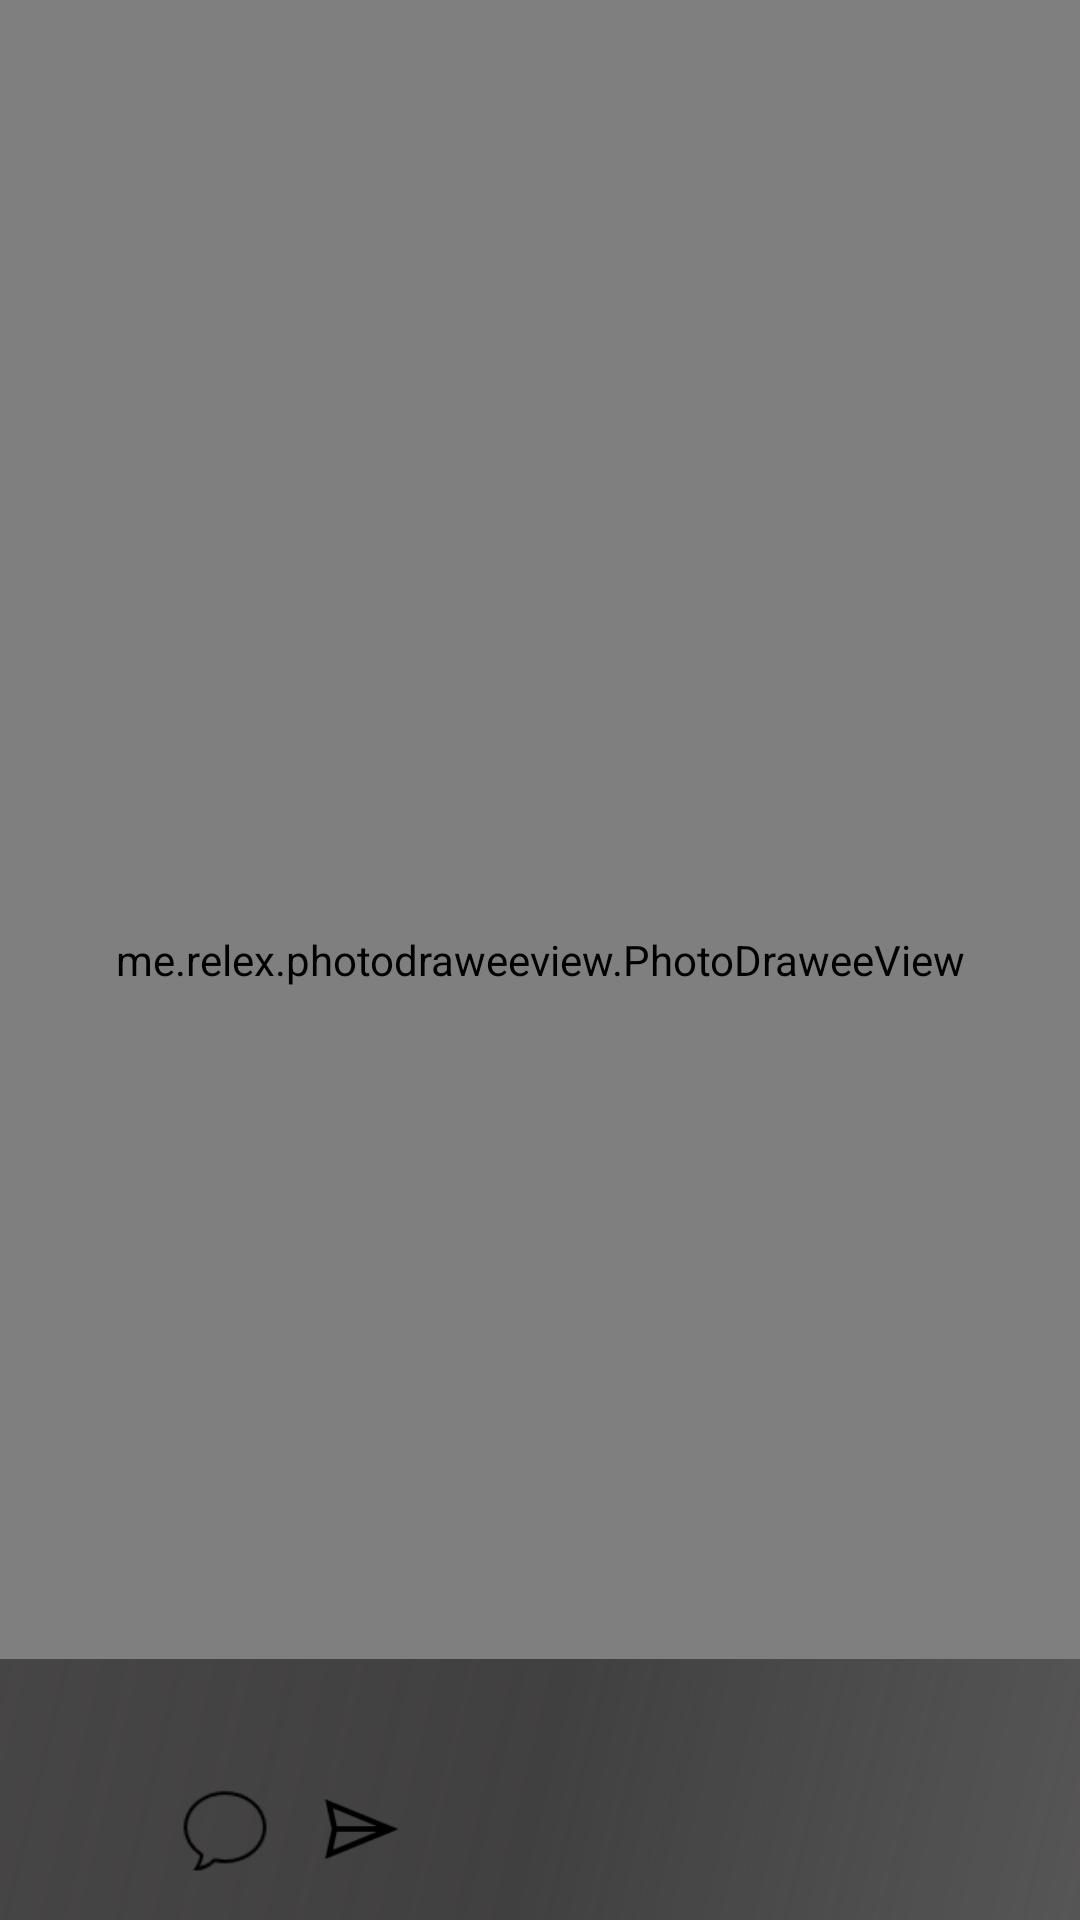

Named icons in this screenshot (1080 x 1920) and their bounding boxes, (x1, y1, x2, y2):
comment: (183, 1791, 267, 1871)
send: (325, 1800, 397, 1859)
